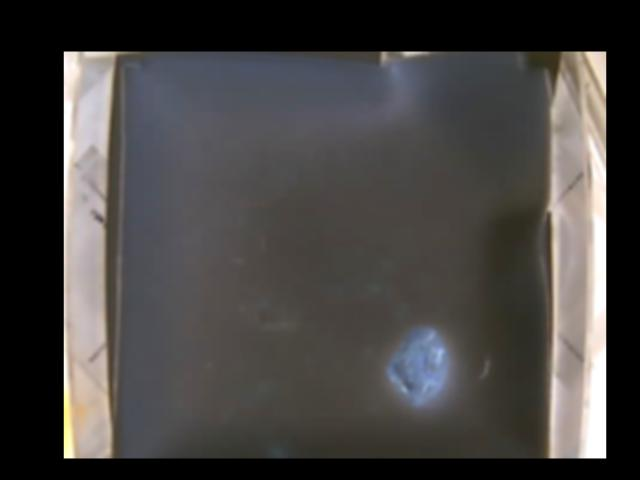Pebble: (386, 323, 447, 405)
